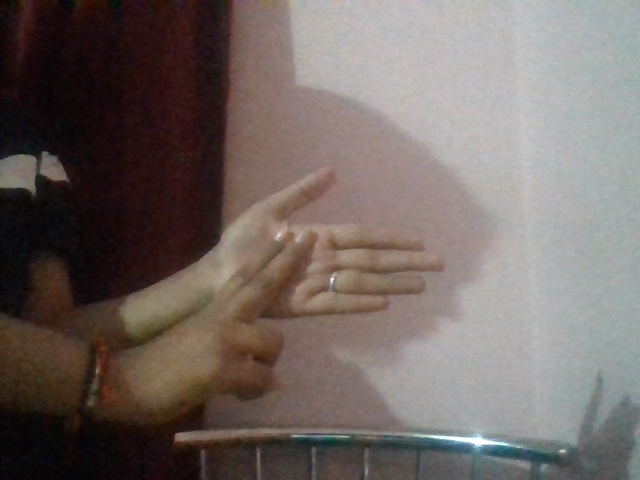N: (91, 158, 460, 458)
